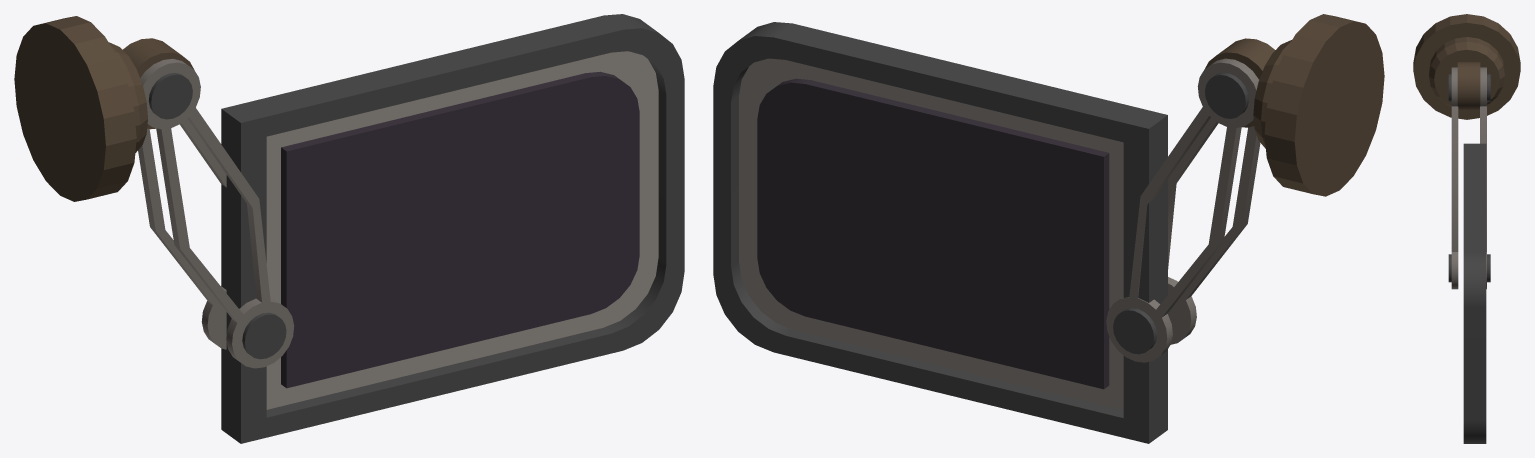
Rendered from 48_sign2.fbx.
3 views of the same model, side by side, from view 1: azimuth 30°, elevation 25°; view 2: azimuth 150°, elevation 25°; view 3: azimuth 270°, elevation 25° (orthographic). The views are drawn at different scales.
Visible parts, largest first — view 1: pCube89, pCylinder280, pCylinder278, pCylinder279, pCylinder281; view 2: pCube89, pCylinder280, pCylinder279, pCylinder278, pCylinder281; view 3: pCube89, pCylinder280, pCylinder278, pCylinder281, pCylinder279.
Part boxes in pixels (x1,y1,x2,y2): pCube89: [221, 14, 684, 443]; pCylinder280: [14, 16, 147, 201]; pCylinder278: [140, 58, 294, 368]; pCylinder279: [138, 118, 226, 349]; pCylinder281: [123, 38, 193, 129]; pCube89: [713, 22, 1167, 443]; pCylinder280: [1253, 14, 1384, 196]; pCylinder279: [1106, 58, 1258, 362]; pCylinder278: [1168, 117, 1260, 344]; pCylinder281: [1204, 38, 1275, 127]; pCube89: [1463, 143, 1486, 443]; pCylinder280: [1413, 14, 1520, 119]; pCylinder278: [1448, 67, 1458, 289]; pCylinder281: [1457, 62, 1480, 109]; pCylinder279: [1480, 67, 1490, 289].
Size of the model in its own units: 2.17 by 1.52 by 0.5545.
